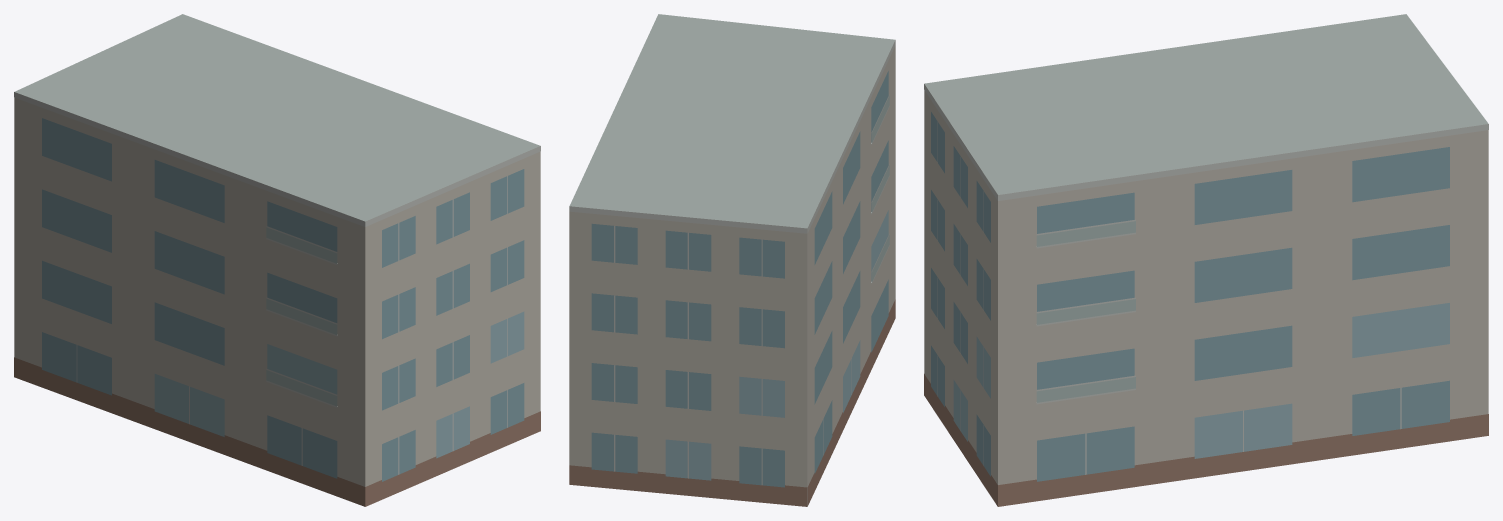
Rendered from survey-upis-32609443.glb.
3 renders of one model, left to right at view 1: azimuth 30°, elevation 25°; view 2: azimuth 150°, elevation 25°; view 3: azimuth 270°, elevation 25°, orthographic. The views are drawn at different scales.
Parts seen in each view (by area): view 1: survey-upis-32609443.tmp; view 2: survey-upis-32609443.tmp; view 3: survey-upis-32609443.tmp.
Part boxes in pixels (x1=…): survey-upis-32609443.tmp: x1=14, y1=14, x2=540, y2=506; survey-upis-32609443.tmp: x1=569, y1=14, x2=895, y2=506; survey-upis-32609443.tmp: x1=924, y1=14, x2=1488, y2=506.
Bounding box in the file's own units: 15.71 × 12.6 × 20.69.
